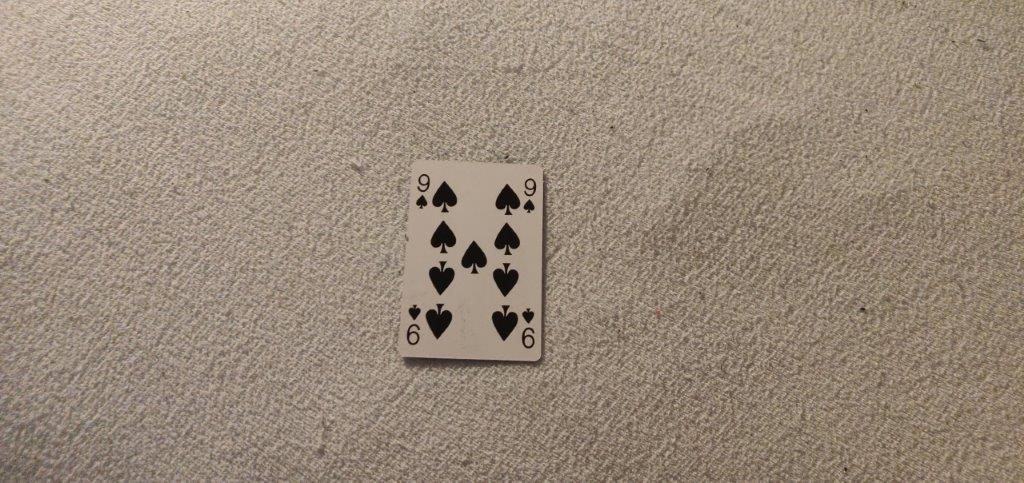9S: (413, 173, 434, 213), (520, 176, 541, 214)
